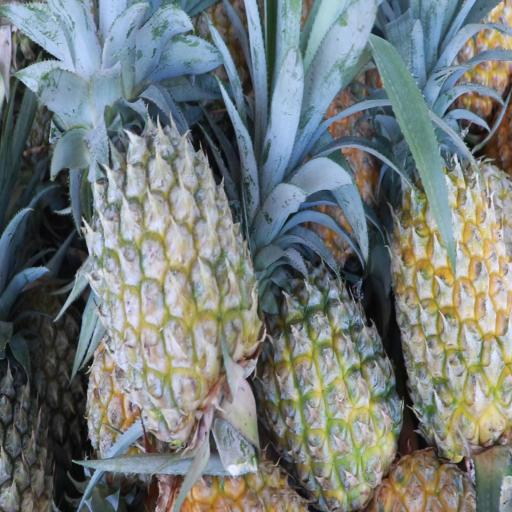------------------------------: (98, 134, 257, 437)
Pineapple - v8 v1: (389, 171, 512, 453), (264, 275, 400, 502)
